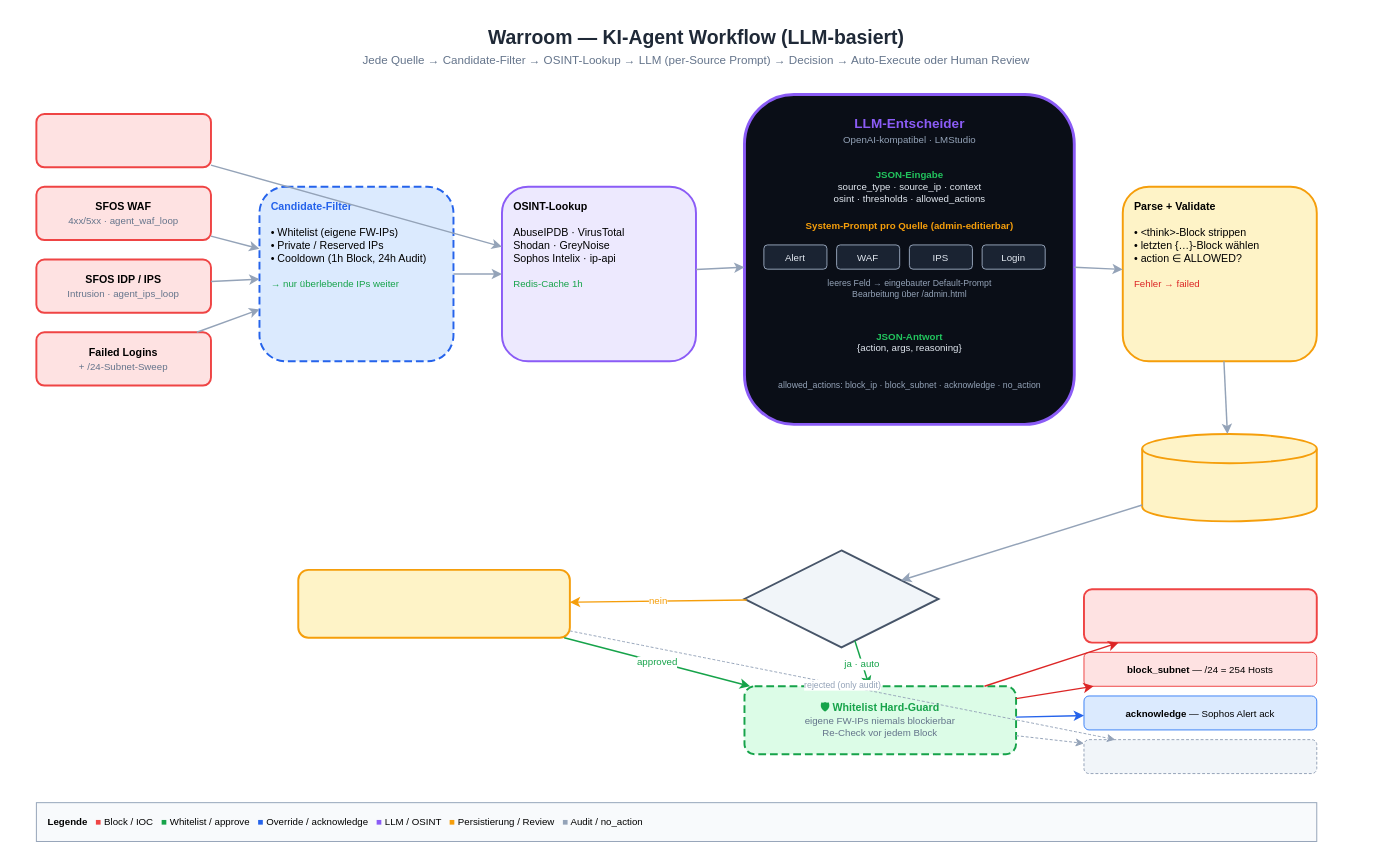
This 1391x858 diagram has some shape labels left out. The shapes that lost their labels are listed below. From the top down, each one's centre as x and y in pixels, then its label:
At point 123,140: "Sophos Central Alerts API · agent_loop".
At point 1229,477: "agent_decisions source_type · source_ip · action · args reasoning · status".
At point 433,603: "Pending Human Review /agent.html Approve · Reject · Override".
At point 841,598: "auto_execute?auto_execute OR conf ≥ Schwelle?#xa;(Blocks immer manuell)".
At point 1200,615: "blocked_ips → /ioc_IP Sophos/pfSense Pull-Feed".
At point 1200,756: "no_action — nur Audit-Eintrag".
